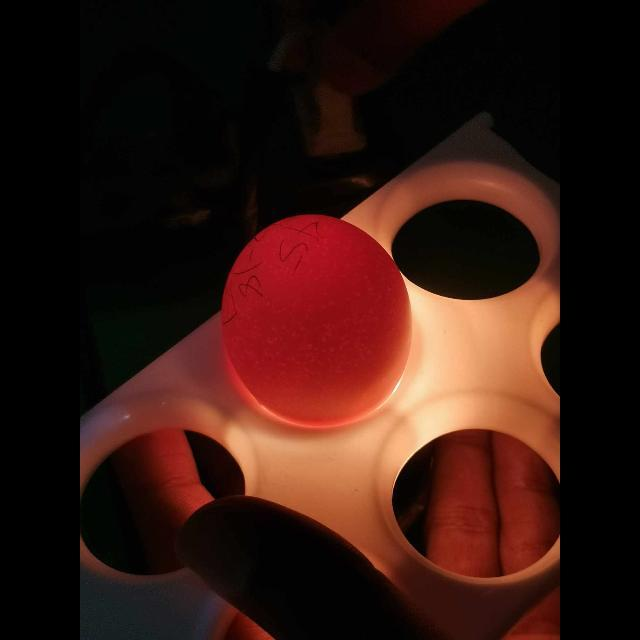Infertile: (218, 204, 416, 416)
